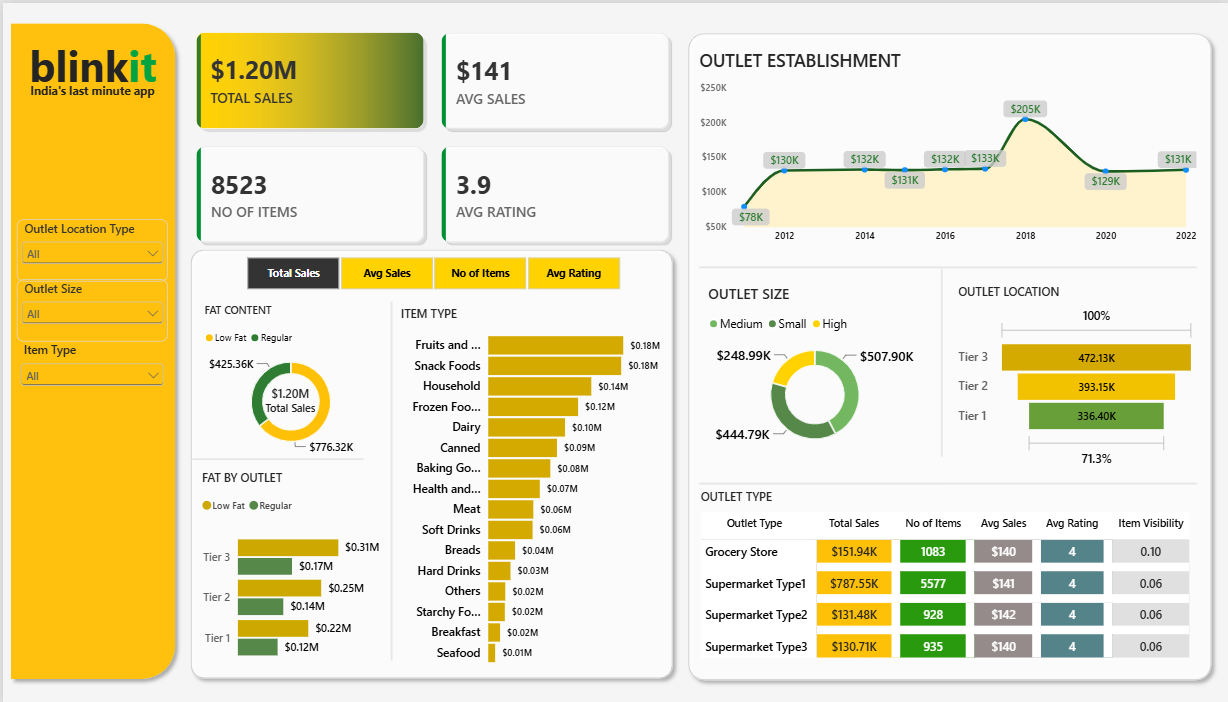

The dashboard page shown, as its layout file describes it:
{"tool":"powerbi","page":{"name":"Blinkit Sales Dashboard","canvas":[1400,800],"ordinal":0},"visuals":[{"type":"shape","box":[0,14.3,205.7,767.1],"z":0},{"type":"textbox","box":[24.3,38.6,157.1,81.4],"z":1000},{"type":"textbox","box":[8.6,90,187.1,37.1],"z":2000},{"type":"cardVisual","fields":{"Data":["BlinkIT Grocery Data.Total Sales","BlinkIT Grocery Data.Avg Sales","BlinkIT Grocery Data.No of Items","BlinkIT Grocery Data.Avg Rating"]},"box":[205.7,18.6,570,270],"z":3000},{"type":"shape","box":[205.7,272.9,568.6,508],"z":4000},{"type":"donutChart","title":"FAT CONTENT","fields":{"Y":["BlinkIT Grocery Data.Total Sales"],"Category":["BlinkIT Grocery Data.Item Fat Content"]},"box":[214.1,328.2,229.6,204.2],"z":5000},{"type":"slicer","fields":{"Values":["Metrics.Metrics"]},"box":[258.6,288.6,465,40],"z":6000},{"type":"cardVisual","fields":{"Data":["BlinkIT Grocery Data.Total Sales"]},"box":[275.7,431.4,105.7,47.1],"z":7000},{"type":"clusteredBarChart","title":"FAT BY OUTLET","fields":{"Y":["BlinkIT Grocery Data.Total Sales"],"Category":["BlinkIT Grocery Data.Outlet Location Type"],"Series":["BlinkIT Grocery Data.Item Fat Content"]},"box":[211.4,518.6,234.3,262.9],"z":8000},{"type":"shape","box":[214.4,508.9,197.8,25.6],"z":9000},{"type":"shape","box":[439,341,11,410],"z":10000},{"type":"barChart","title":"ITEM TYPE","fields":{"Y":["BlinkIT Grocery Data.Total Sales"],"Category":["BlinkIT Grocery Data.Item Type"]},"box":[439,332,329,447],"z":11000},{"type":"shape","box":[774.3,25.7,615.7,757.1],"z":12000},{"type":"lineChart","title":"OUTLET ESTABLISHMENT","fields":{"Y":["BlinkIT Grocery Data.Total Sales"],"Category":["BlinkIT Grocery Data.Outlet Establishment Year"]},"box":[780,37.1,600,257.1],"z":13000},{"type":"shape","box":[795.7,288.6,568.6,27.1],"z":14000},{"type":"donutChart","title":"OUTLET SIZE","fields":{"Y":["BlinkIT Grocery Data.Total Sales"],"Category":["BlinkIT Grocery Data.Outlet Size"]},"box":[790,305.7,275.7,224.3],"z":15000},{"type":"shape","box":[1061.4,304.3,22.9,214.3],"z":16000},{"type":"funnel","title":"OUTLET LOCATION","fields":{"Y":["Sum(BlinkIT Grocery Data.Sales)"],"Category":["BlinkIT Grocery Data.Outlet Location Type"]},"box":[1075.7,305.7,302.9,240],"z":17000},{"type":"shape","box":[795.7,535.7,568.6,27.1],"z":18000},{"type":"pivotTable","title":"OUTLET TYPE","fields":{"Rows":["BlinkIT Grocery Data.Outlet Type"],"Values":["BlinkIT Grocery Data.Total Sales","BlinkIT Grocery Data.No of Items","BlinkIT Grocery Data.Avg Sales","BlinkIT Grocery Data.Avg Rating","Avg(BlinkIT Grocery Data.Item Visibility)"]},"box":[781.4,540,591.4,257.1],"z":19000},{"type":"slicer","fields":{"Values":["BlinkIT Grocery Data.Outlet Location Type"]},"box":[15.7,247.1,172.9,71.4],"z":20000},{"type":"slicer","fields":{"Values":["BlinkIT Grocery Data.Outlet Size"]},"box":[15.7,315.7,172.9,71.4],"z":21000},{"type":"slicer","fields":{"Values":["BlinkIT Grocery Data.Item Type"]},"box":[15.7,387.1,172.9,71.4],"z":22000}]}

Visuals, with their boxes in screenshot pixels (x1, y1, x2, y2), scaled from the page's 1400x800 canvas onto the 1228x702 screenshot:
shape: Rect(0, 13, 180, 686)
textbox: Rect(21, 34, 159, 105)
textbox: Rect(8, 79, 172, 112)
cardVisual - BlinkIT Grocery Data.Total Sales x BlinkIT Grocery Data.Avg Sales: Rect(180, 16, 680, 253)
shape: Rect(180, 239, 679, 685)
"FAT CONTENT" donutChart: Rect(188, 288, 389, 467)
slicer - Metrics.Metrics: Rect(227, 253, 635, 288)
cardVisual - BlinkIT Grocery Data.Total Sales: Rect(242, 379, 335, 420)
"FAT BY OUTLET" clusteredBarChart: Rect(185, 455, 391, 686)
shape: Rect(188, 447, 362, 469)
shape: Rect(385, 299, 395, 659)
"ITEM TYPE" barChart: Rect(385, 291, 674, 684)
shape: Rect(679, 23, 1219, 687)
"OUTLET ESTABLISHMENT" lineChart: Rect(684, 33, 1210, 258)
shape: Rect(698, 253, 1197, 277)
"OUTLET SIZE" donutChart: Rect(693, 268, 935, 465)
shape: Rect(931, 267, 951, 455)
"OUTLET LOCATION" funnel: Rect(944, 268, 1209, 479)
shape: Rect(698, 470, 1197, 494)
"OUTLET TYPE" pivotTable: Rect(685, 474, 1204, 699)
slicer - BlinkIT Grocery Data.Outlet Location Type: Rect(14, 217, 165, 279)
slicer - BlinkIT Grocery Data.Outlet Size: Rect(14, 277, 165, 340)
slicer - BlinkIT Grocery Data.Item Type: Rect(14, 340, 165, 402)
